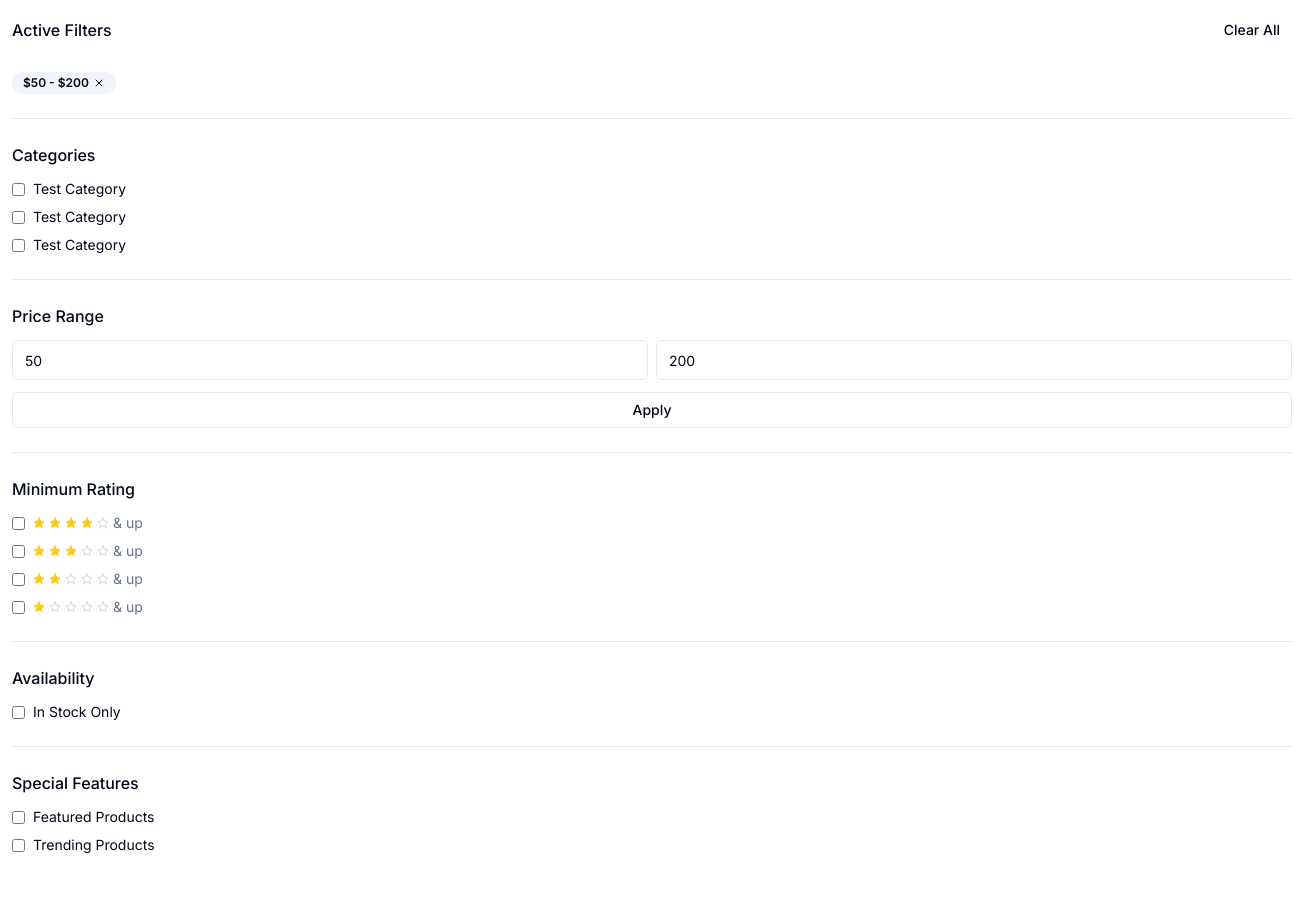
Test: ProductFilters - Enhanced Tests › Active Filters Management › clears price inputs when Clear All is clicked
The image size is (1304, 912).
Click the button "Clear All".
click(1252, 30)  # box [1212,12,1292,48]
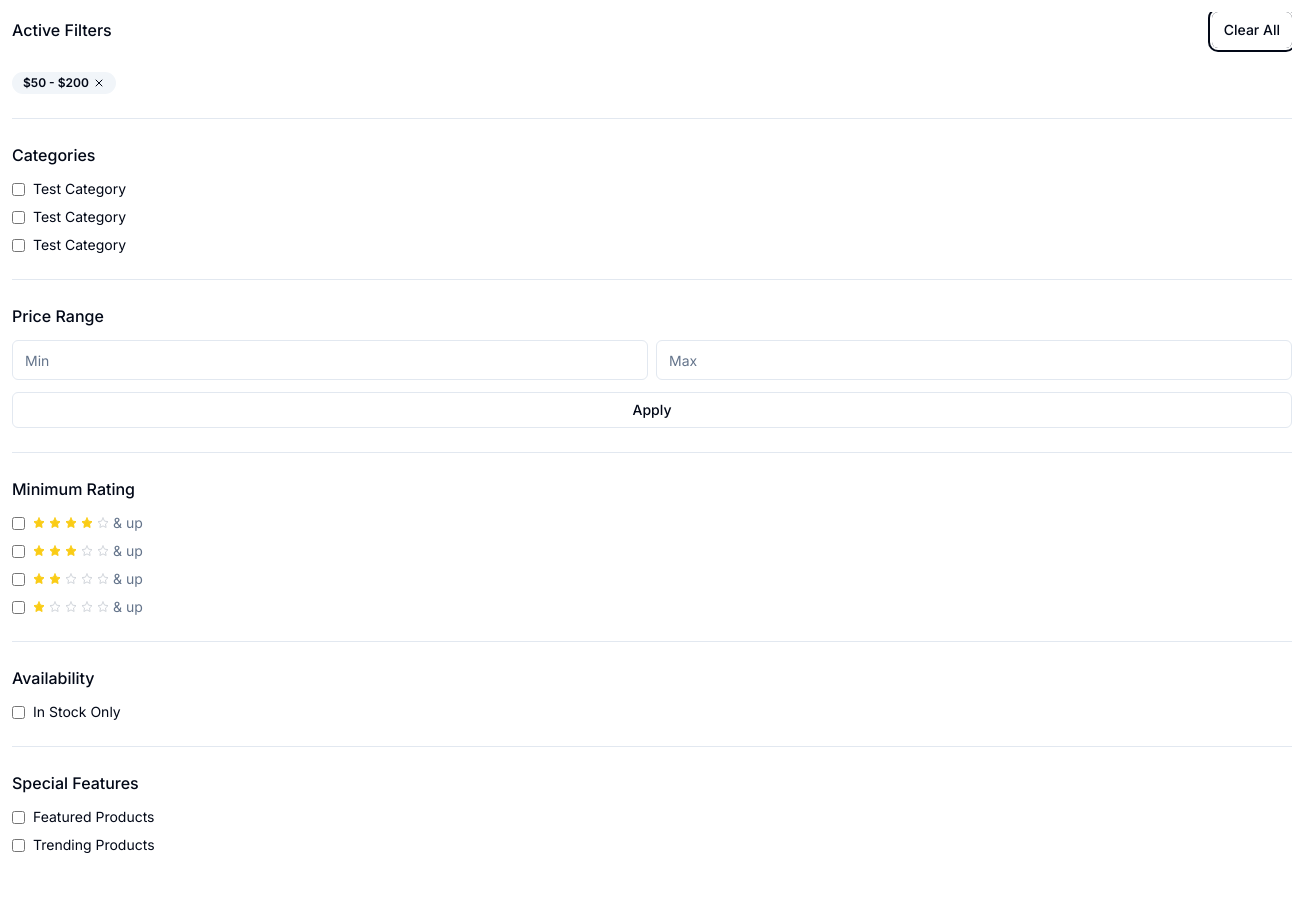
Result: the number field with placeholder "Min" is empty at [12,340,648,380]
Result: the number field with placeholder "Max" is empty at [656,340,1292,380]
